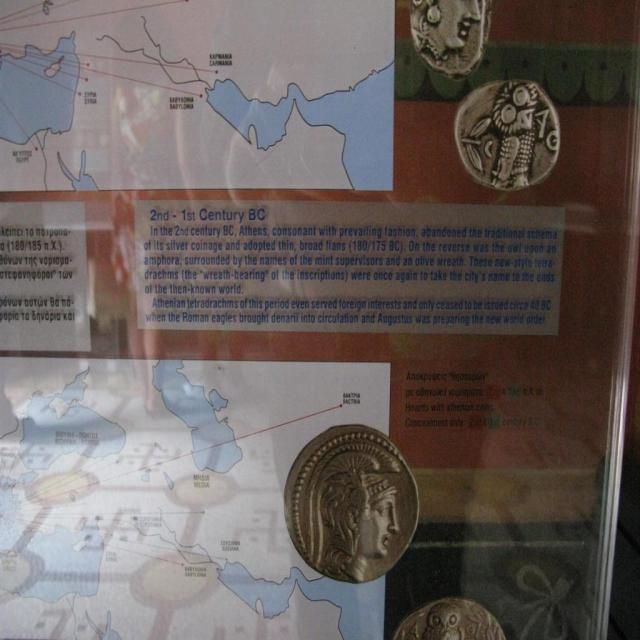Coin: (282, 422, 423, 586), (453, 79, 564, 194), (407, 0, 492, 76), (390, 598, 506, 639)
